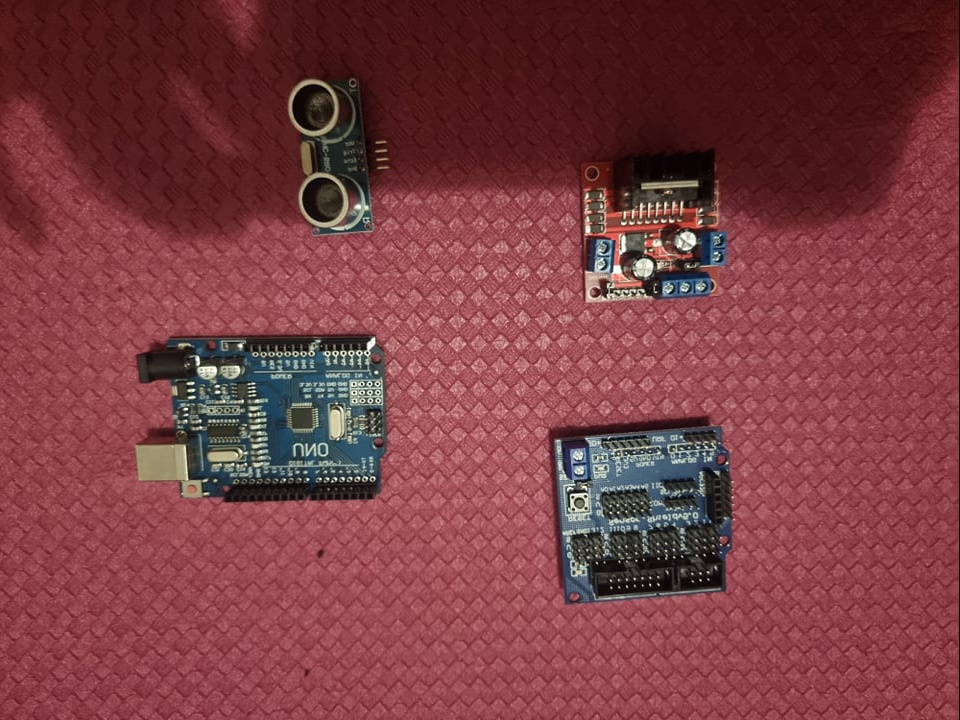5V EXPANSION: (549, 420, 735, 601)
MOTOR: (585, 149, 728, 298)
SENSOR: (287, 72, 376, 237)
UNO R3: (135, 333, 391, 507)
